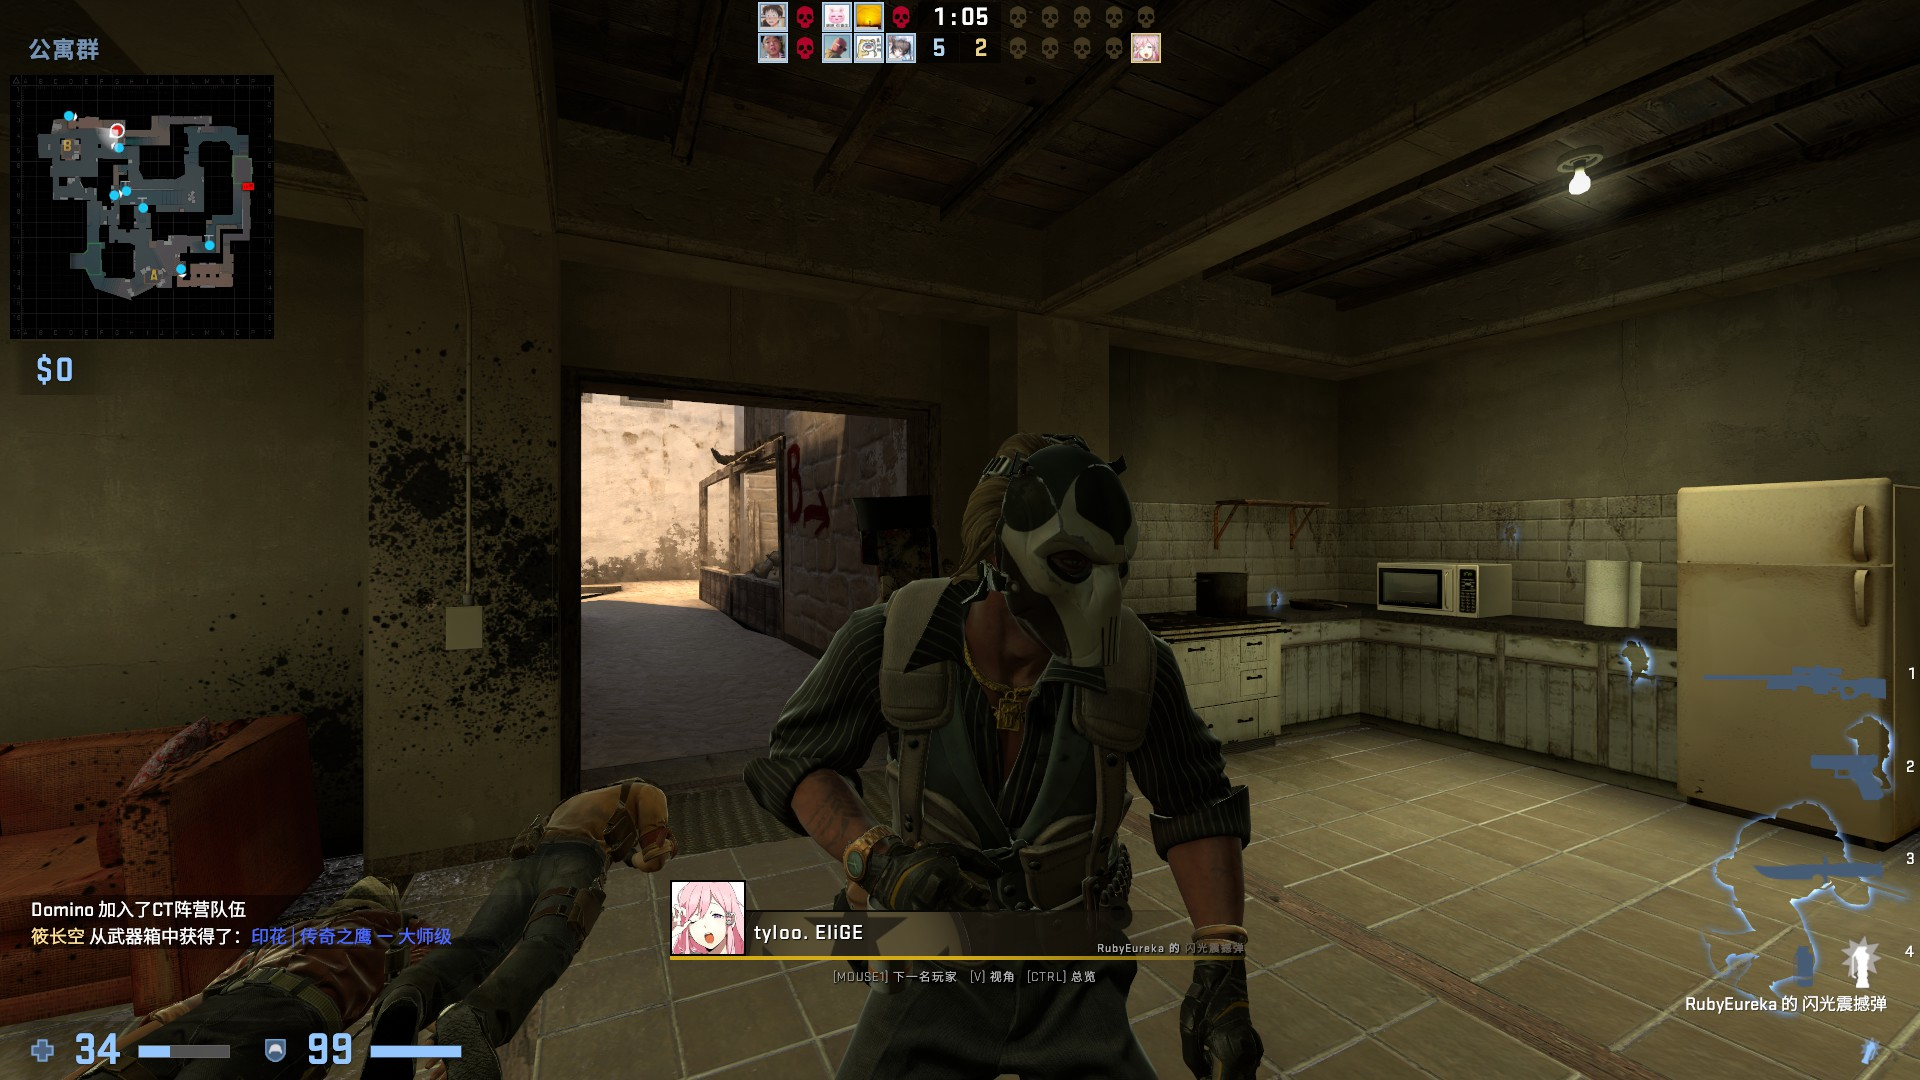head: (967, 426, 1135, 674)
